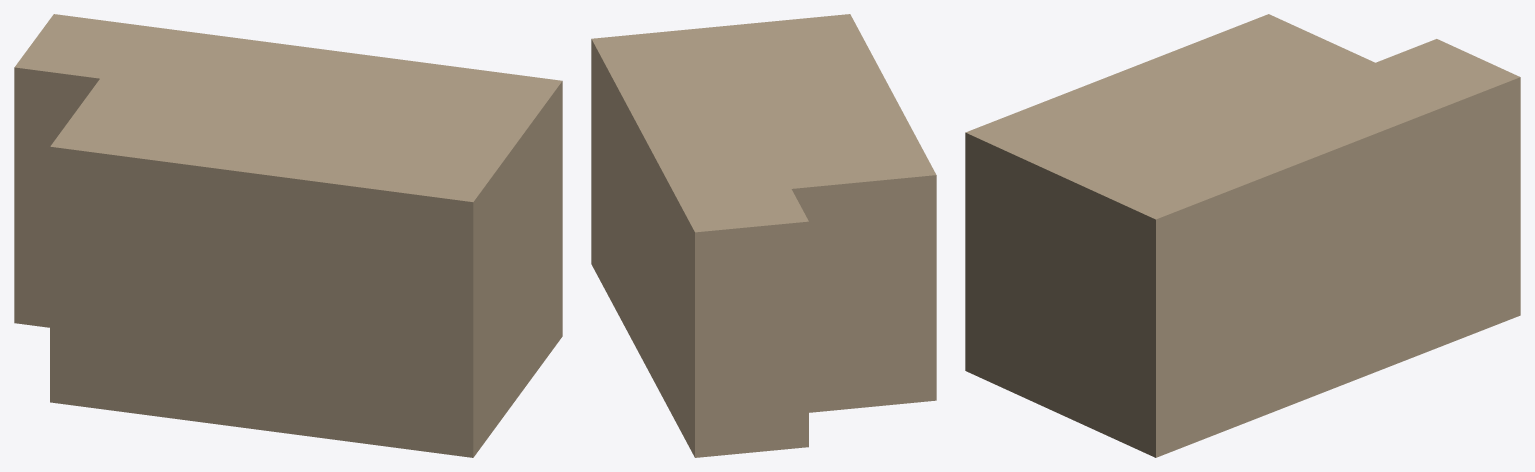
The model's file is bld_106306701.dae.
The picture shows the model from 3 angles, left to right: view 1: azimuth 30°, elevation 25°; view 2: azimuth 150°, elevation 25°; view 3: azimuth 270°, elevation 25°; orthographic projection. The views are drawn at different scales.
Parts seen in each view (by area): view 1: bld_106306701; view 2: bld_106306701; view 3: bld_106306701.
Boxes of the visible parts, x1,y1,x2,y2 form: bld_106306701: (14, 14, 562, 457); bld_106306701: (591, 14, 936, 457); bld_106306701: (965, 14, 1520, 457).
Bounding box in the file's own units: 14.79 × 16.88 × 8.
